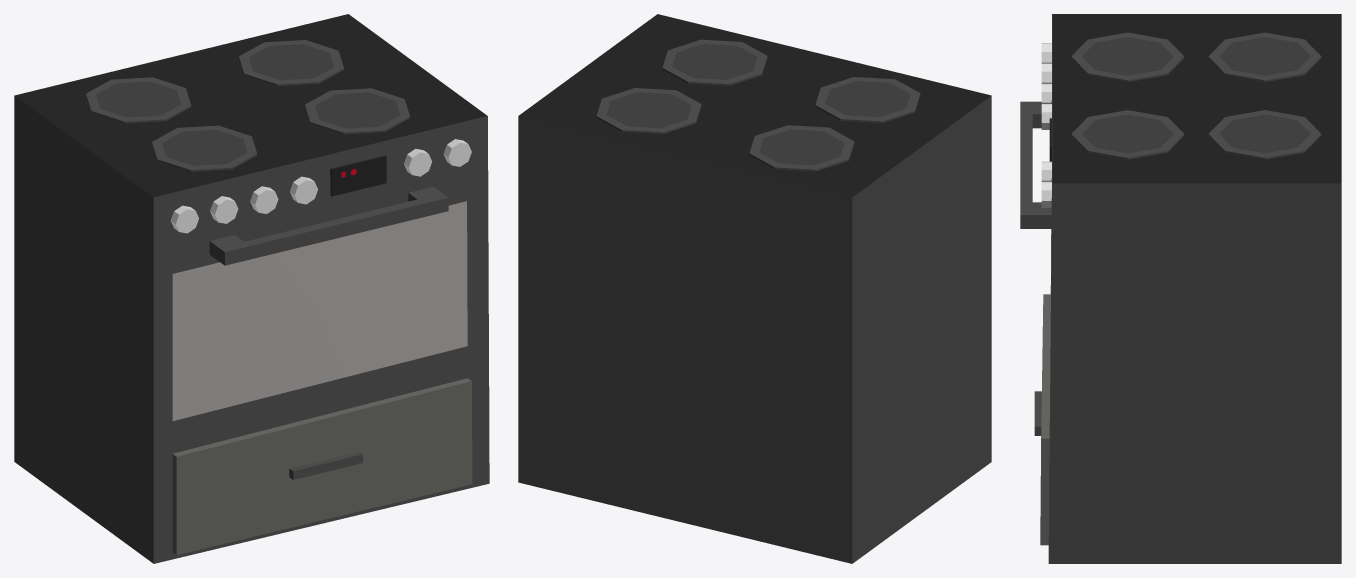
The model's file is Kitchen_2_Stove_231109.glb.
3 renders of one model, left to right at view 1: azimuth 30°, elevation 25°; view 2: azimuth 150°, elevation 25°; view 3: azimuth 270°, elevation 25°, orthographic. The views are drawn at different scales.
Visible parts, largest first — view 1: Kitchen_2_Stove; view 2: Kitchen_2_Stove; view 3: Kitchen_2_Stove.
Part boxes in pixels (bbox=[...]): Kitchen_2_Stove: bbox=[14, 14, 489, 563]; Kitchen_2_Stove: bbox=[518, 14, 991, 563]; Kitchen_2_Stove: bbox=[1020, 14, 1341, 563].
Bounding box in the file's own units: 1.22 × 1.29 × 0.9798.
1 material, 1 textured.
